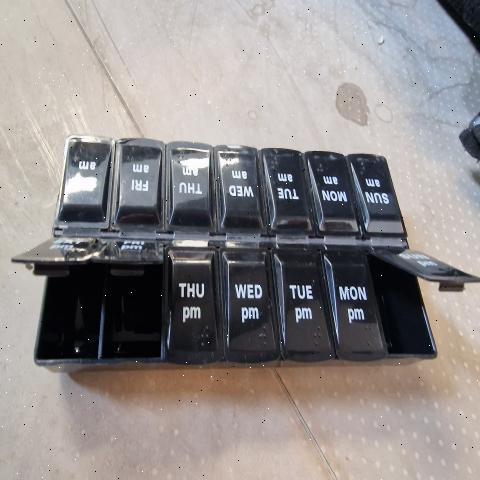Open: (10, 259, 101, 359), (89, 263, 163, 360), (368, 250, 434, 358)
